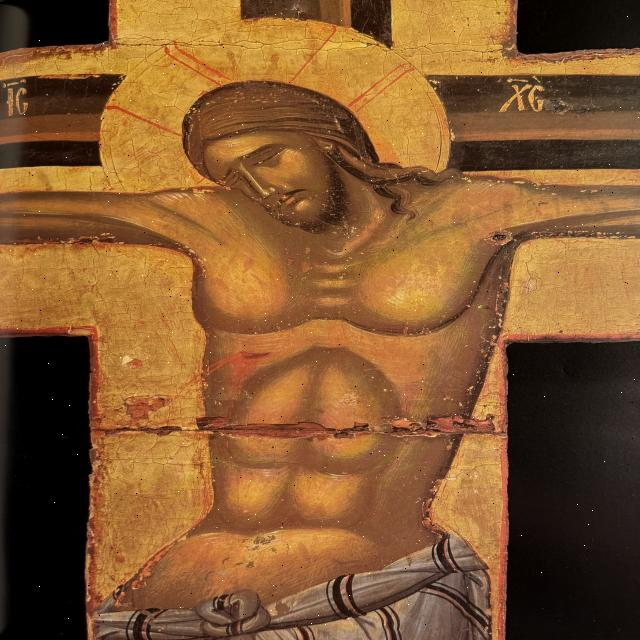aura: (92, 19, 464, 232)
christ_crucifiction: (2, 2, 636, 638)
